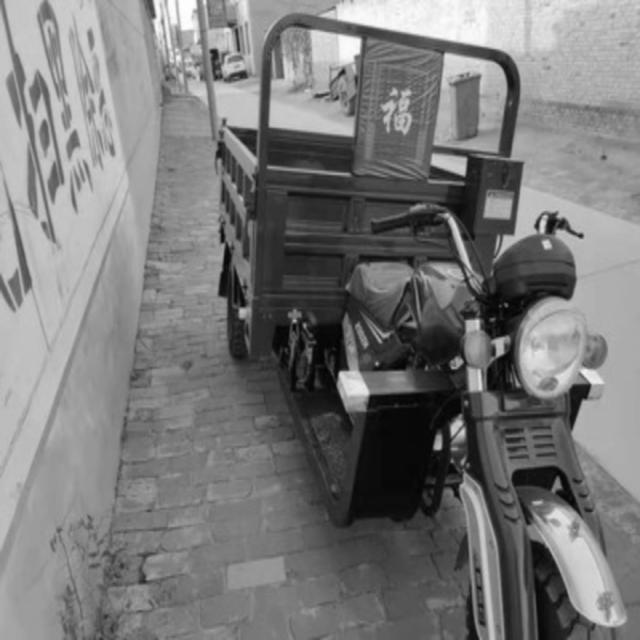ash bin: (443, 66, 482, 139)
car: (220, 49, 247, 81)
pole: (195, 0, 216, 137)
tricycle: (212, 11, 626, 638)
